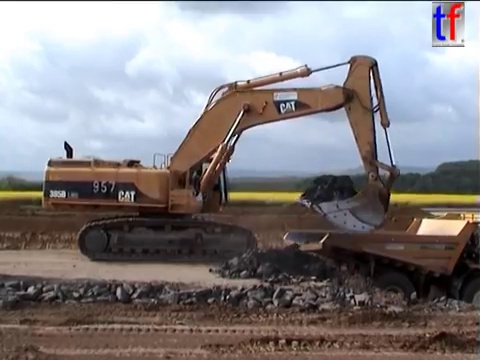excavator: (38, 52, 403, 266)
truck: (280, 209, 480, 324)
